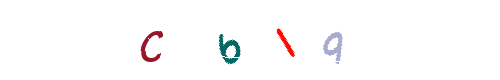6: (189, 0, 269, 80)
9: (260, 0, 340, 80)
C: (161, 0, 241, 80)
I: (210, 0, 290, 80)
